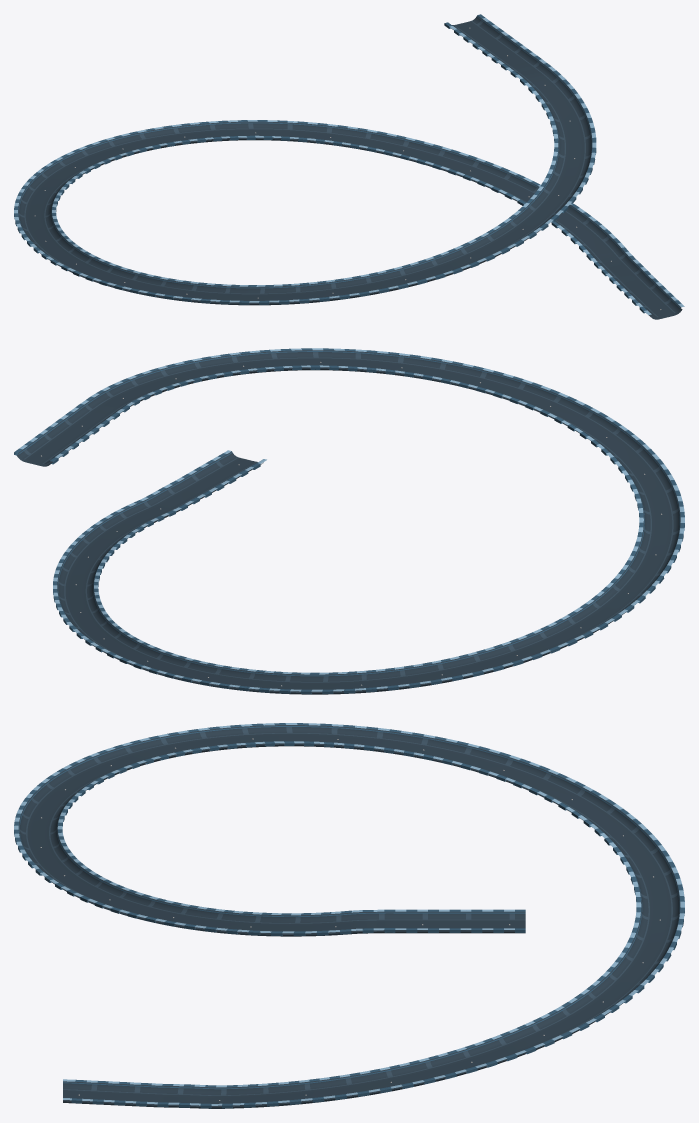
File: 180_d_block_R_T3.fbx
The picture shows the model from 3 angles, top to bottom: view 1: azimuth 30°, elevation 25°; view 2: azimuth 150°, elevation 25°; view 3: azimuth 270°, elevation 25°; orthographic projection. The views are drawn at different scales.
Parts seen in each view (by area): view 1: blue_180block_R_T3; view 2: blue_180block_R_T3; view 3: blue_180block_R_T3.
Part boxes in pixels (left/top/right/bottom): blue_180block_R_T3: left=14, top=14, right=684, bottom=319; blue_180block_R_T3: left=14, top=348, right=684, bottom=694; blue_180block_R_T3: left=14, top=723, right=684, bottom=1108.
Size of the model in its own units: 16209 by 4517 by 15620.
